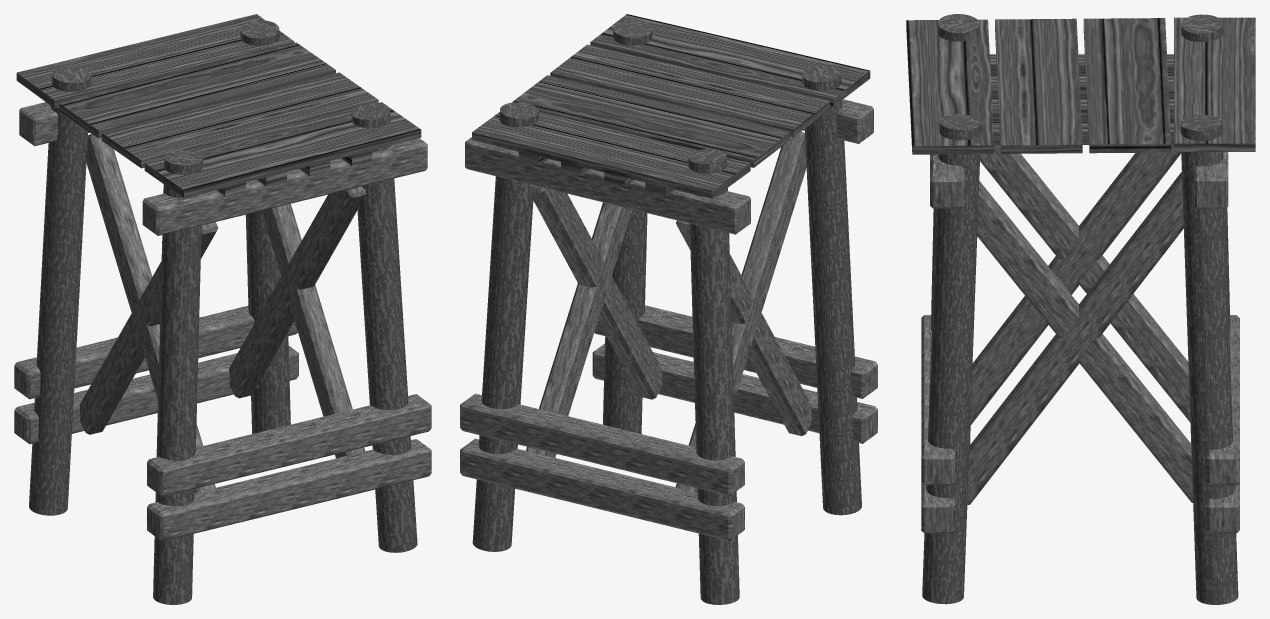
Rendered from archer_Tower_V2.fbx.
3 views of the same model, side by side, from view 1: azimuth 30°, elevation 25°; view 2: azimuth 150°, elevation 25°; view 3: azimuth 270°, elevation 25° (orthographic). The views are drawn at different scales.
Parts seen in each view (by area): view 1: TowerPost.004; view 2: TowerPost.004; view 3: TowerPost.004.
Part boxes in pixels (x1=…): TowerPost.004: x1=14, y1=14, x2=431, y2=604; TowerPost.004: x1=460, y1=14, x2=877, y2=604; TowerPost.004: x1=906, y1=14, x2=1255, y2=604.
Bounding box in the file's own units: 26.43 × 40.25 × 27.34.
